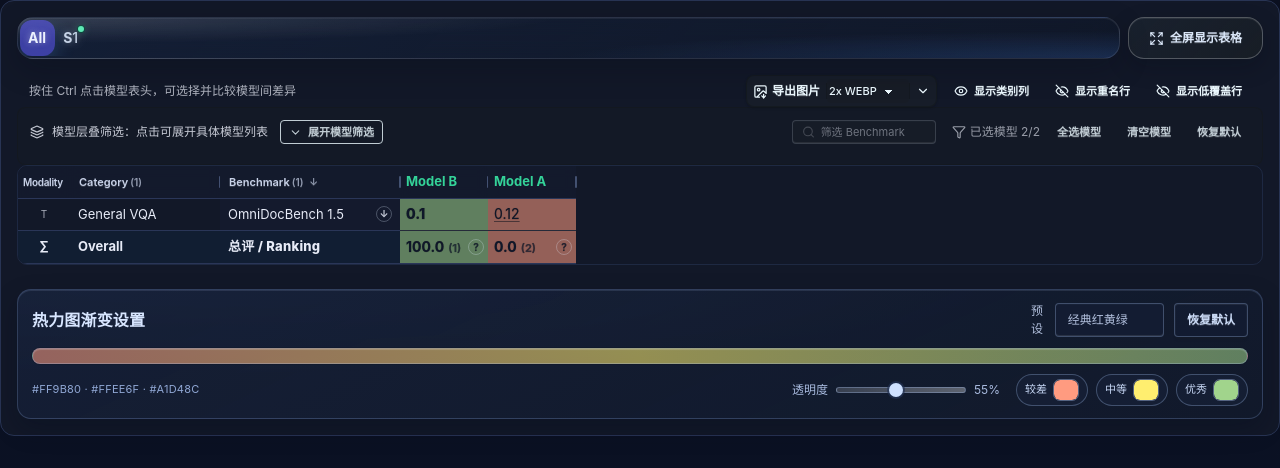
Test: BenchmarkMatrix 模型比较 › 低值更优 benchmark 中，数值下降应为绿色，数值上升应为红色
Click the column heading "Model A": x=532, y=182 [488, 166, 576, 198]
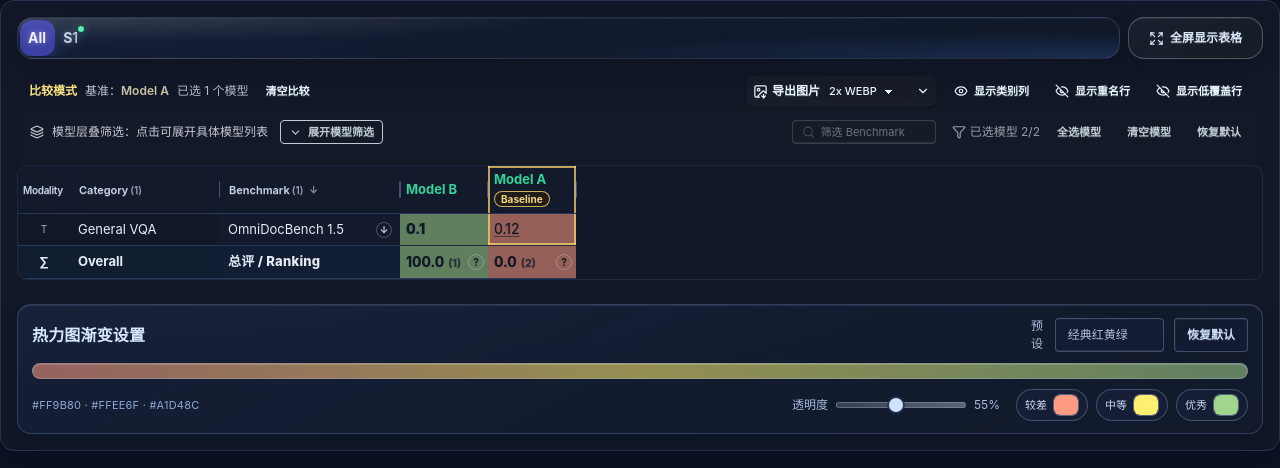
Click the column heading "Model B": x=444, y=190 [400, 166, 488, 213]
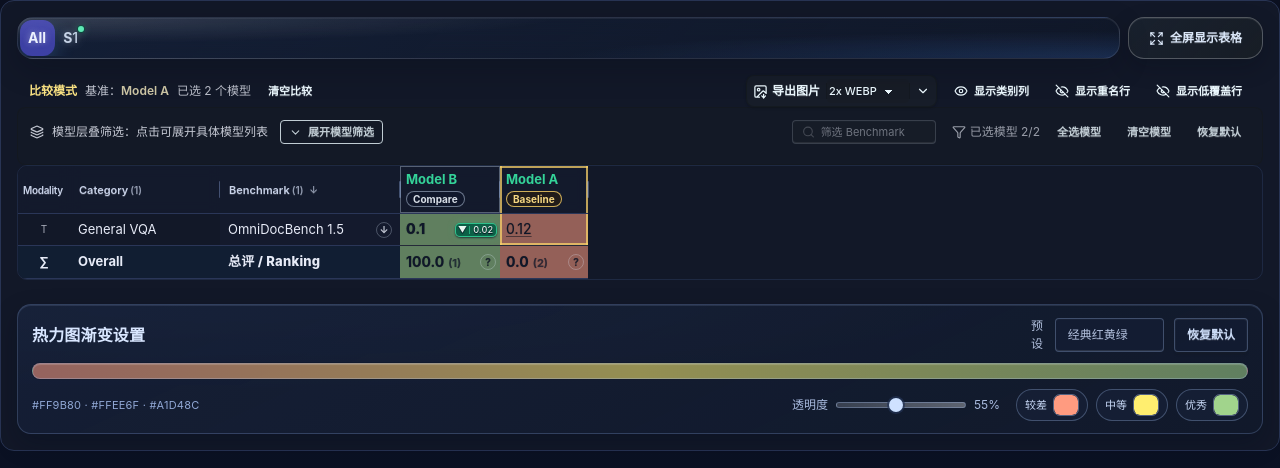
Expected: the element showing "▼ 0.02" is shown, [455, 223, 497, 237]
Click the button "清空比较": x=290, y=91 [259, 77, 321, 105]
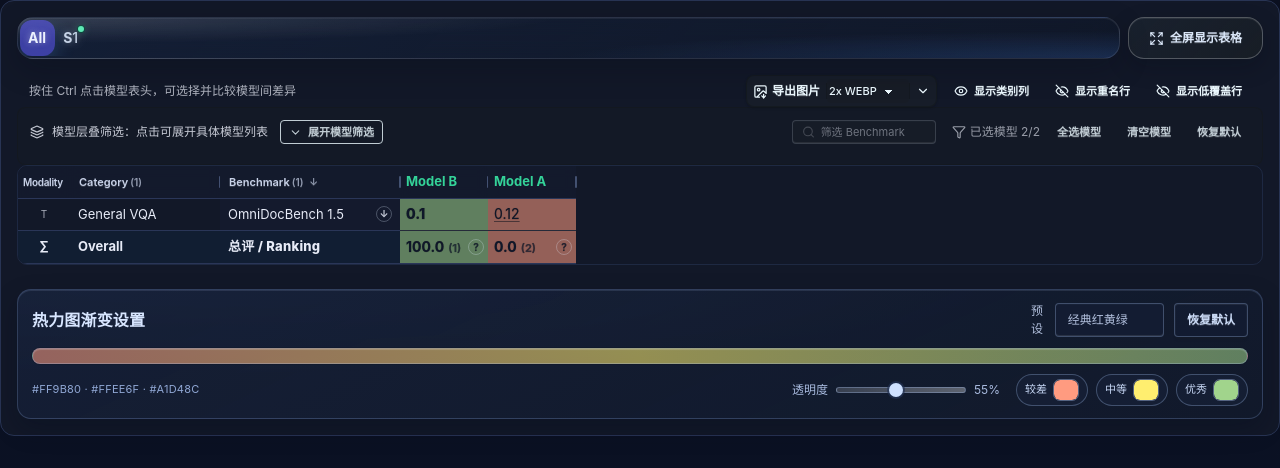
Click the column heading "Model B": x=444, y=182 [400, 166, 488, 198]
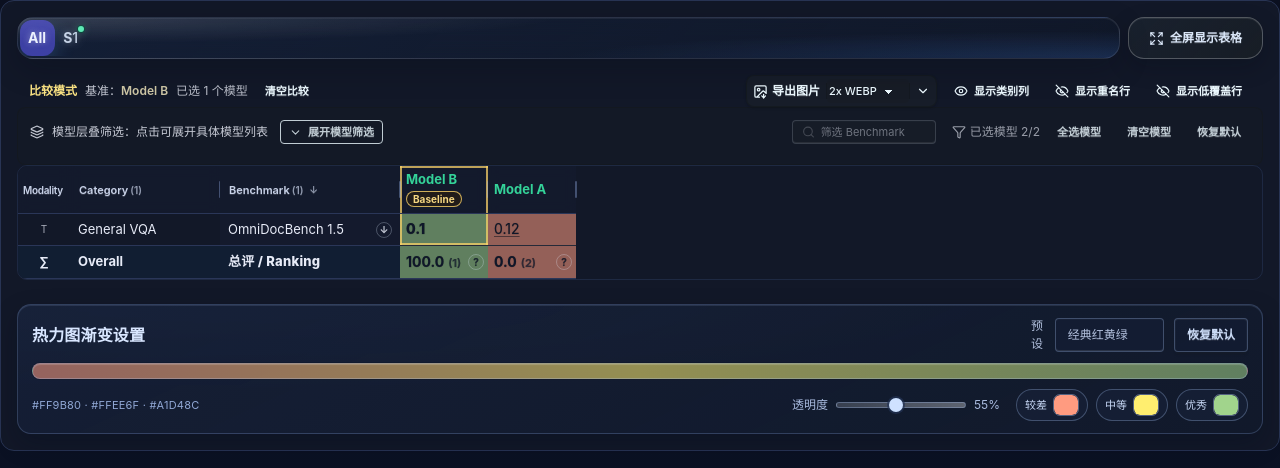
Click the column heading "Model A": x=532, y=190 [488, 166, 576, 213]
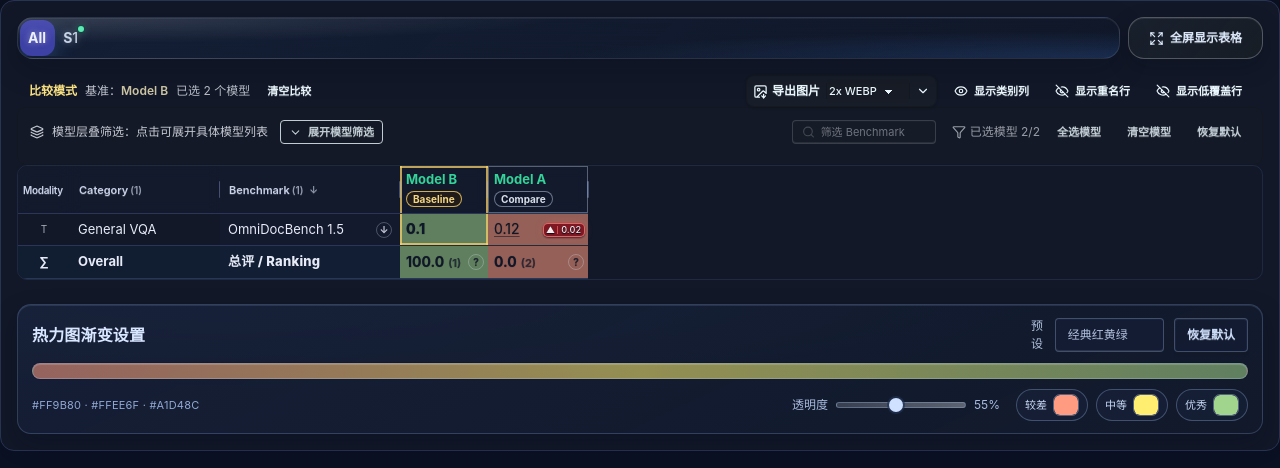
Expected: the element showing "▲ 0.02" is shown, [543, 223, 585, 237]
